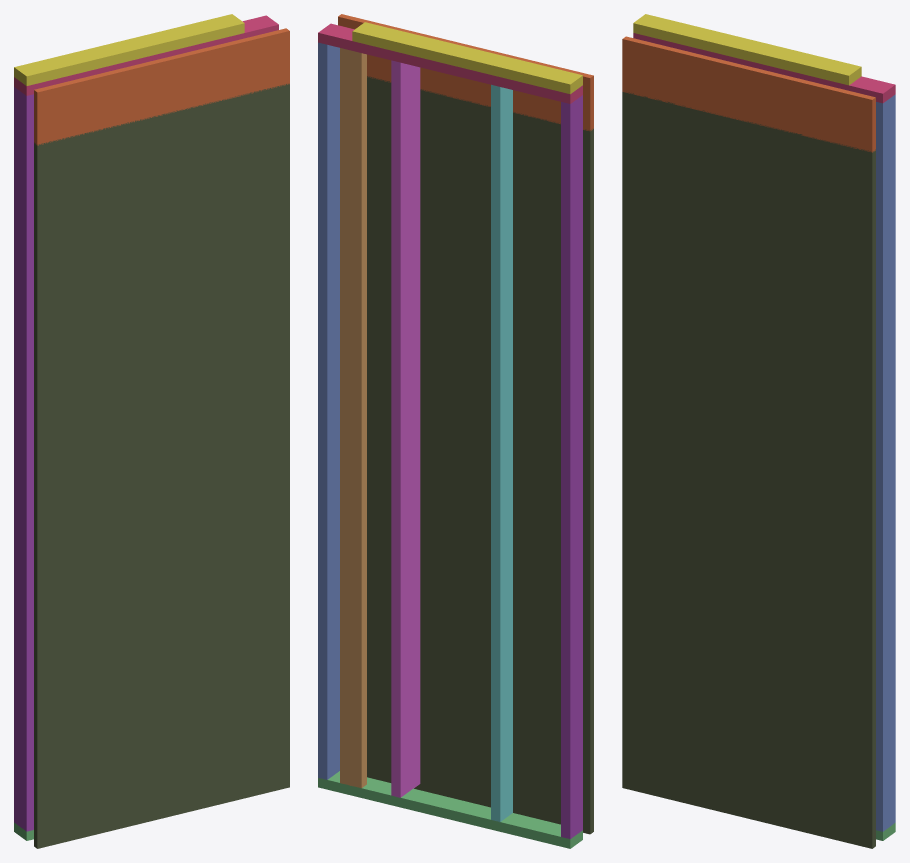
3 renders of one model, left to right at view 1: azimuth 30°, elevation 25°; view 2: azimuth 150°, elevation 25°; view 3: azimuth 330°, elevation 25°, orthographic.
Parts seen in each view (by area): view 1: world; view 2: world; view 3: world.
Boxes of the visible parts, <box> form: world: <box>14,14,289,848</box>; world: <box>318,14,593,848</box>; world: <box>622,14,895,848</box>.
Bounding box in the file's own units: 40.5 × 117 × 6.5.
